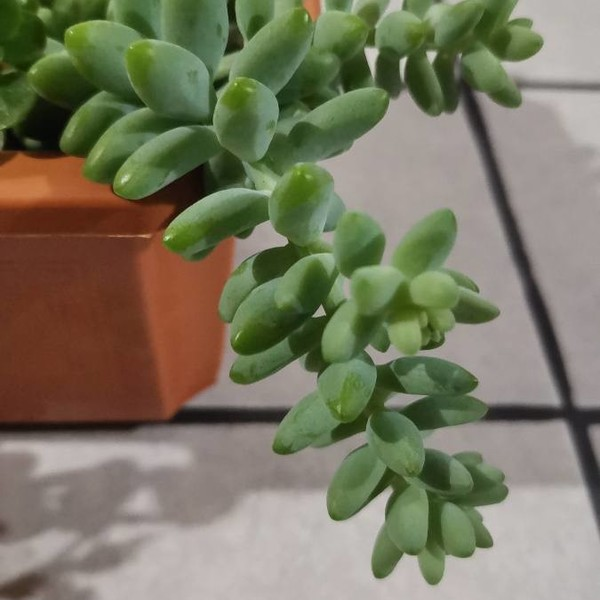obstacle: (75, 19, 546, 574)
